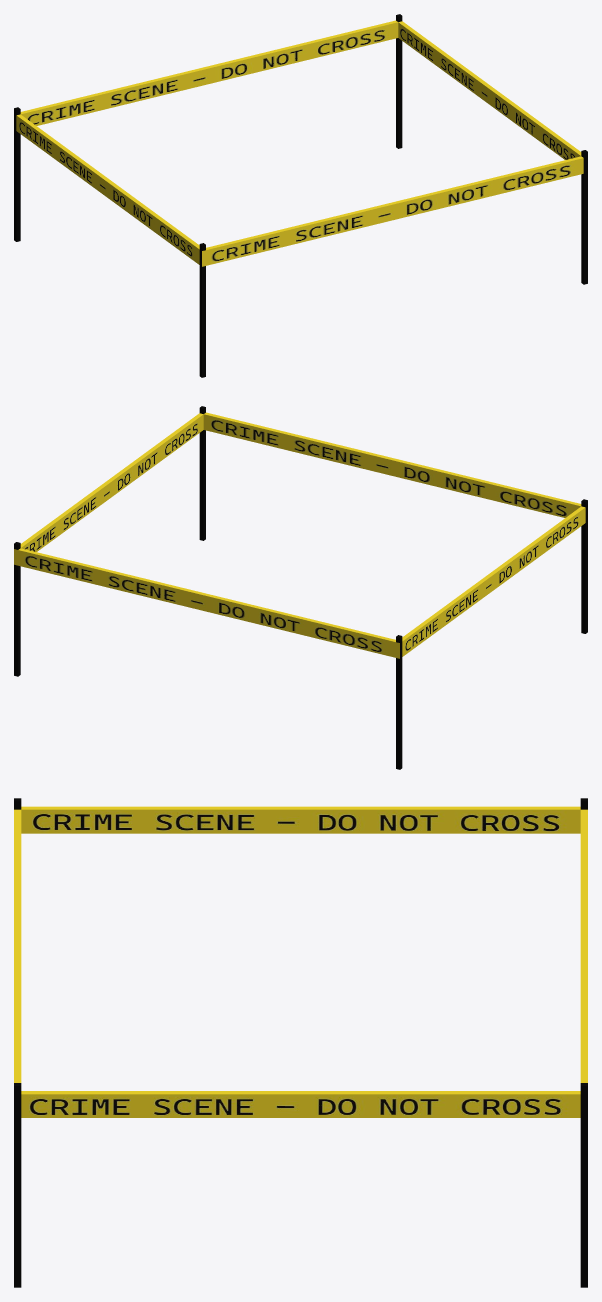
File: barriers.glb
3 renders of one model, top to bottom at view 1: azimuth 30°, elevation 25°; view 2: azimuth 150°, elevation 25°; view 3: azimuth 270°, elevation 25°, orthographic. The views are drawn at different scales.
Parts seen in each view (by area): view 1: NFT_0; view 2: NFT_0; view 3: NFT_0.
Part boxes in pixels (x1,y1,x2,y2): NFT_0: [14, 14, 587, 377]; NFT_0: [14, 406, 587, 769]; NFT_0: [14, 798, 587, 1287].
Bounding box in the file's own units: 2.58 × 0.8447 × 2.18.
Materials: 1 (1 with a texture image).
